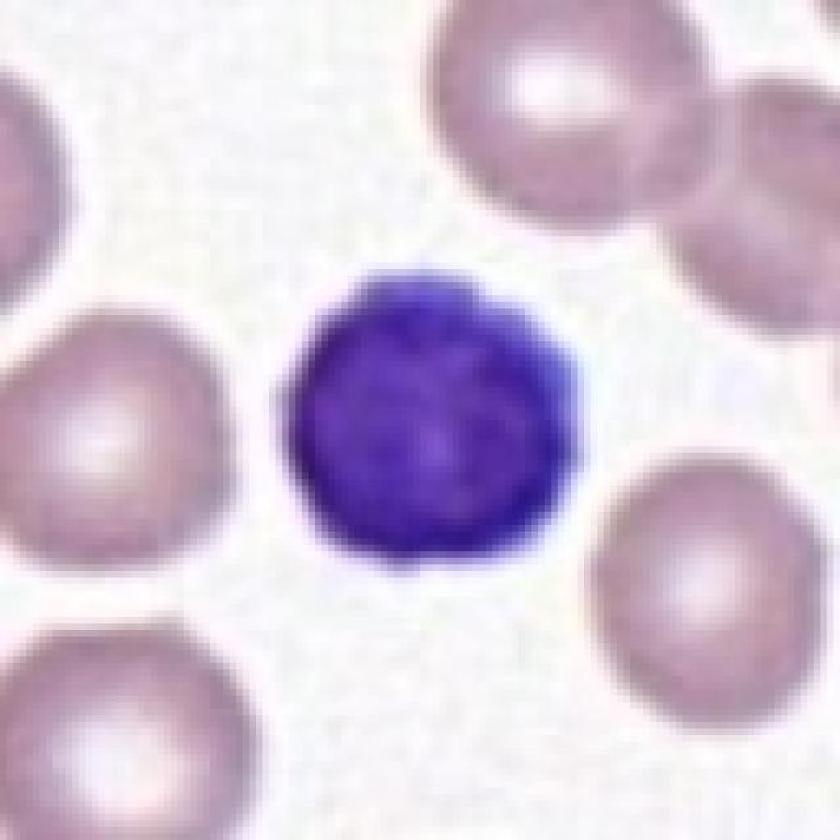lymphocyte: (276, 265, 595, 572)
